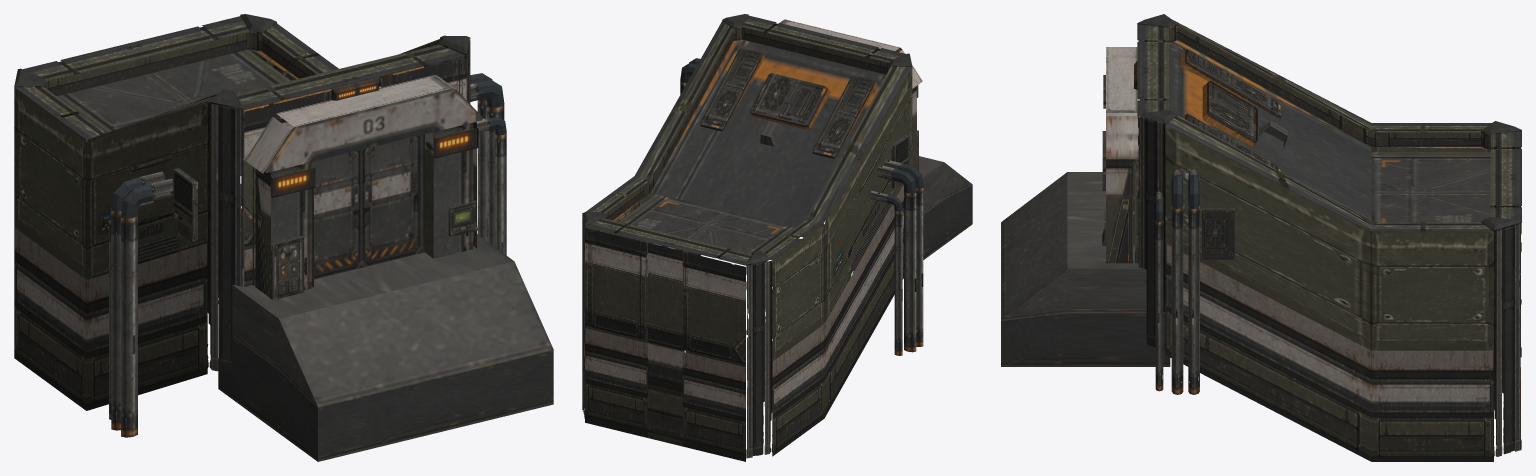
File: bunker.dae
3 renders of one model, left to right at view 1: azimuth 30°, elevation 25°; view 2: azimuth 150°, elevation 25°; view 3: azimuth 270°, elevation 25°, orthographic. The views are drawn at different scales.
Parts seen in each view (by area): view 1: stable; view 2: stable; view 3: stable.
Boxes of the visible parts, bbox=[...] form: stable: bbox=[14, 14, 553, 461]; stable: bbox=[582, 14, 972, 461]; stable: bbox=[1001, 14, 1521, 461].
Size of the model in its own units: 20.81 by 31.16 by 22.53.
